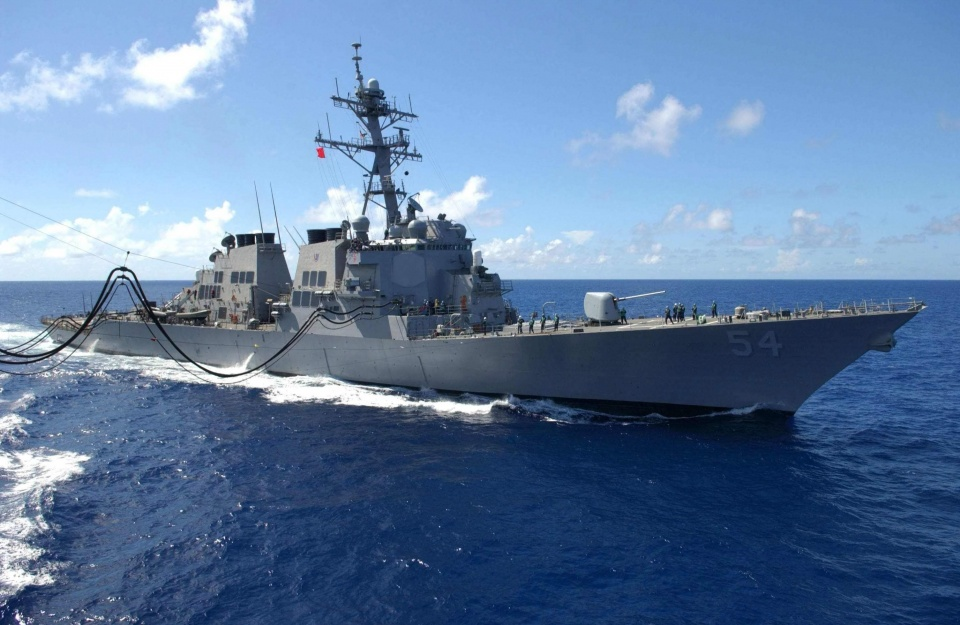warship: (35, 36, 930, 431)
